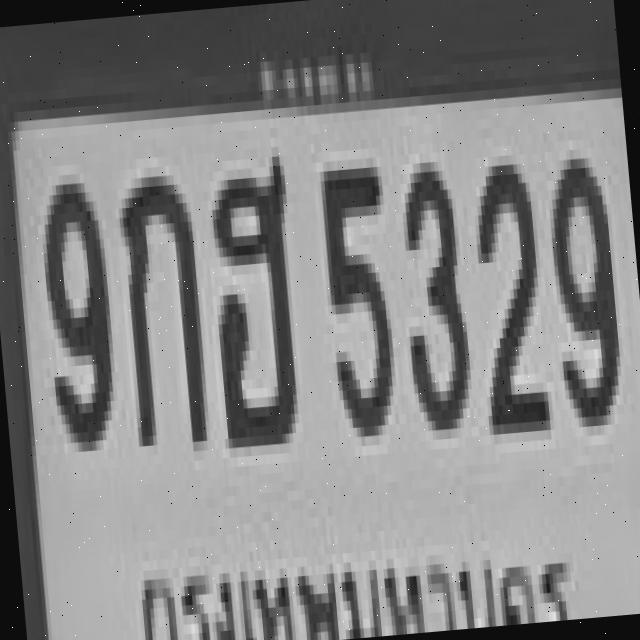10GorGai: (112, 165, 206, 446)
2: (466, 153, 546, 424)
3: (390, 151, 470, 422)
5: (316, 158, 396, 428)
53HorNokHook: (200, 152, 304, 444)
9: (33, 172, 117, 444), (540, 147, 620, 418)
